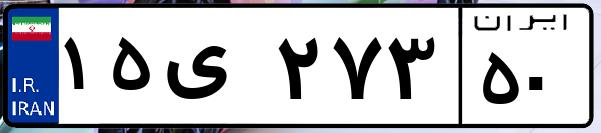0: (525, 38, 570, 115)
1: (57, 26, 110, 100)
2: (270, 28, 330, 110)
3: (385, 28, 445, 110)
5: (475, 38, 525, 113), (110, 28, 158, 98)
7: (330, 28, 385, 110)
ی: (158, 20, 270, 120)
